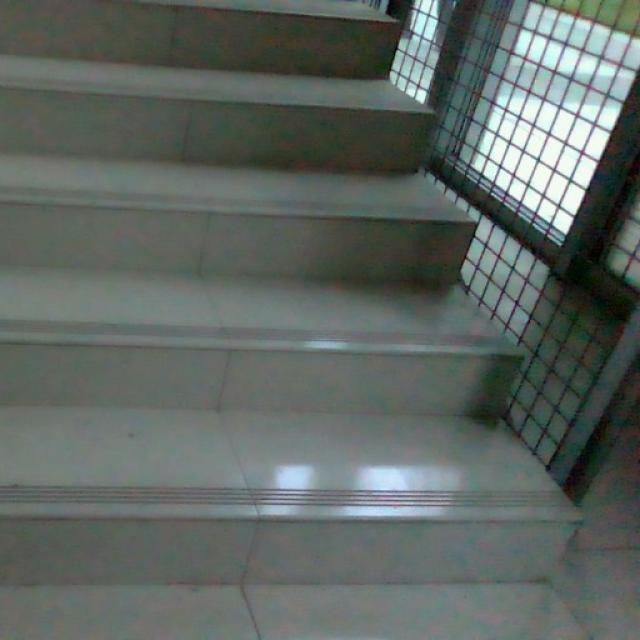Stairs: (0, 0, 591, 639)
